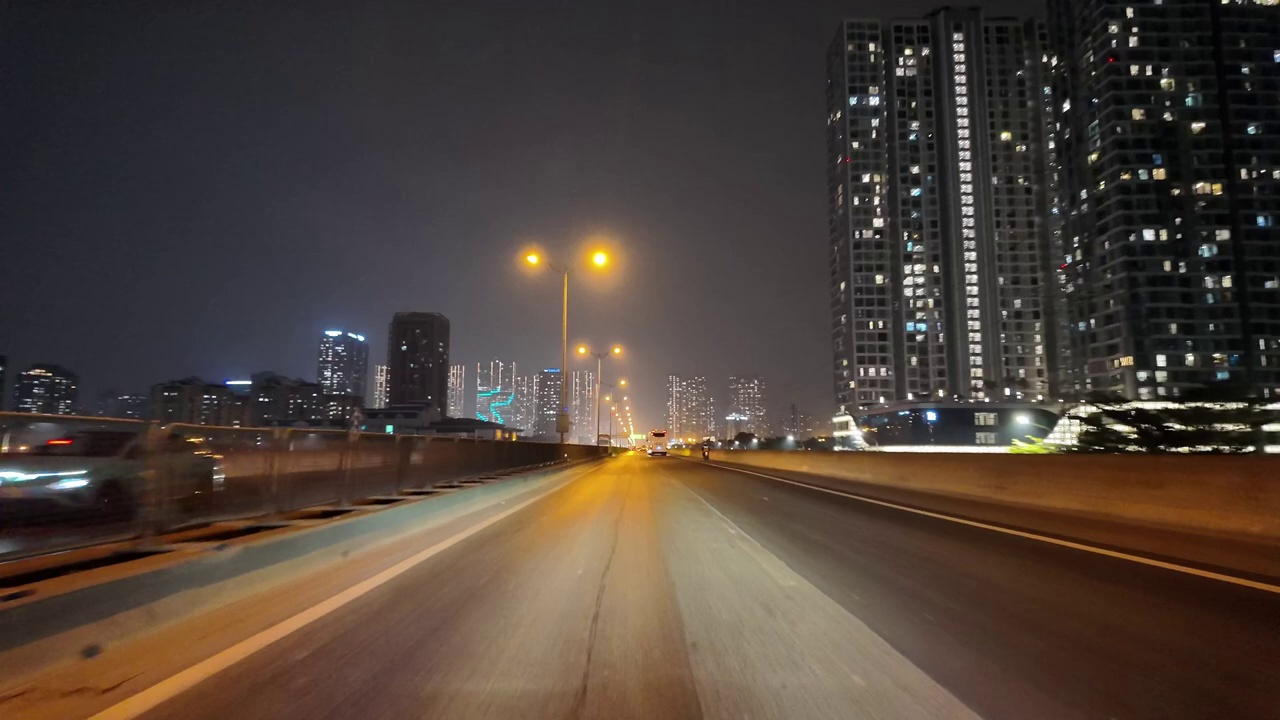acesa: (581, 243, 617, 277), (516, 245, 548, 276), (570, 340, 592, 362), (608, 342, 629, 363)
